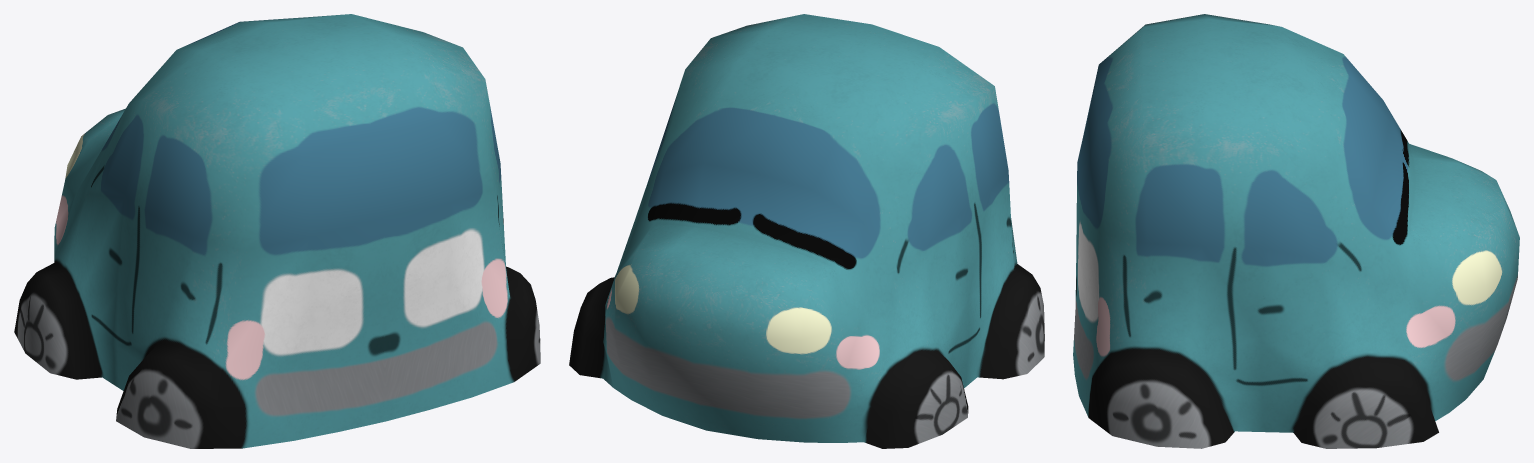
File: Car.fbx
3 renders of one model, left to right at view 1: azimuth 30°, elevation 25°; view 2: azimuth 150°, elevation 25°; view 3: azimuth 270°, elevation 25°, orthographic. The views are drawn at different scales.
Parts seen in each view (by area): view 1: Cube; view 2: Cube; view 3: Cube.
Boxes of the visible parts, <box> form: Cube: <box>14,14,540,448</box>; Cube: <box>569,14,1044,448</box>; Cube: <box>1073,14,1519,448</box>.
Bounding box in the file's own units: 2.13 × 1.61 × 2.14.
Materials: 1 (1 with a texture image).
